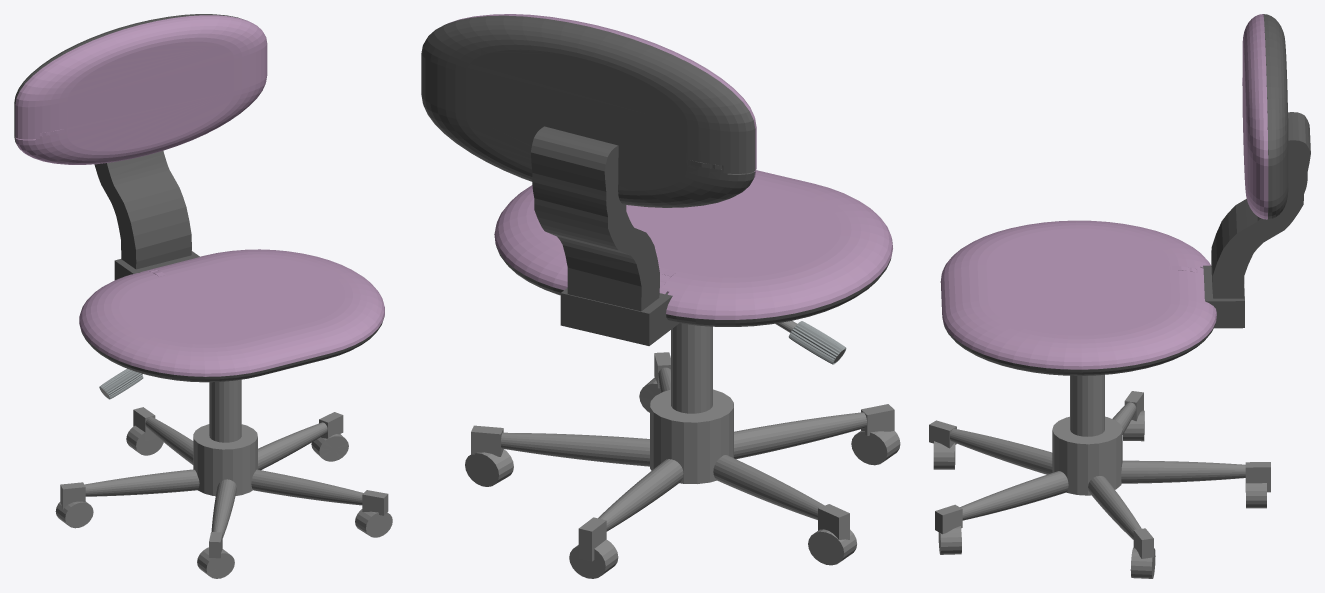
File: SillaOficina2.glb
3 renders of one model, left to right at view 1: azimuth 30°, elevation 25°; view 2: azimuth 150°, elevation 25°; view 3: azimuth 270°, elevation 25°, orthographic. The views are drawn at different scales.
Visible parts, largest first — view 1: Mesh_Mesh_head_geo.001_lambert2SG.001; view 2: Mesh_Mesh_head_geo.001_lambert2SG.001; view 3: Mesh_Mesh_head_geo.001_lambert2SG.001.
Part boxes in pixels (x1,y1,x2,y2): Mesh_Mesh_head_geo.001_lambert2SG.001: [14, 14, 392, 578]; Mesh_Mesh_head_geo.001_lambert2SG.001: [421, 14, 900, 578]; Mesh_Mesh_head_geo.001_lambert2SG.001: [929, 14, 1310, 578].
Bounding box in the file's own units: 25.66 × 36 × 27.1.
